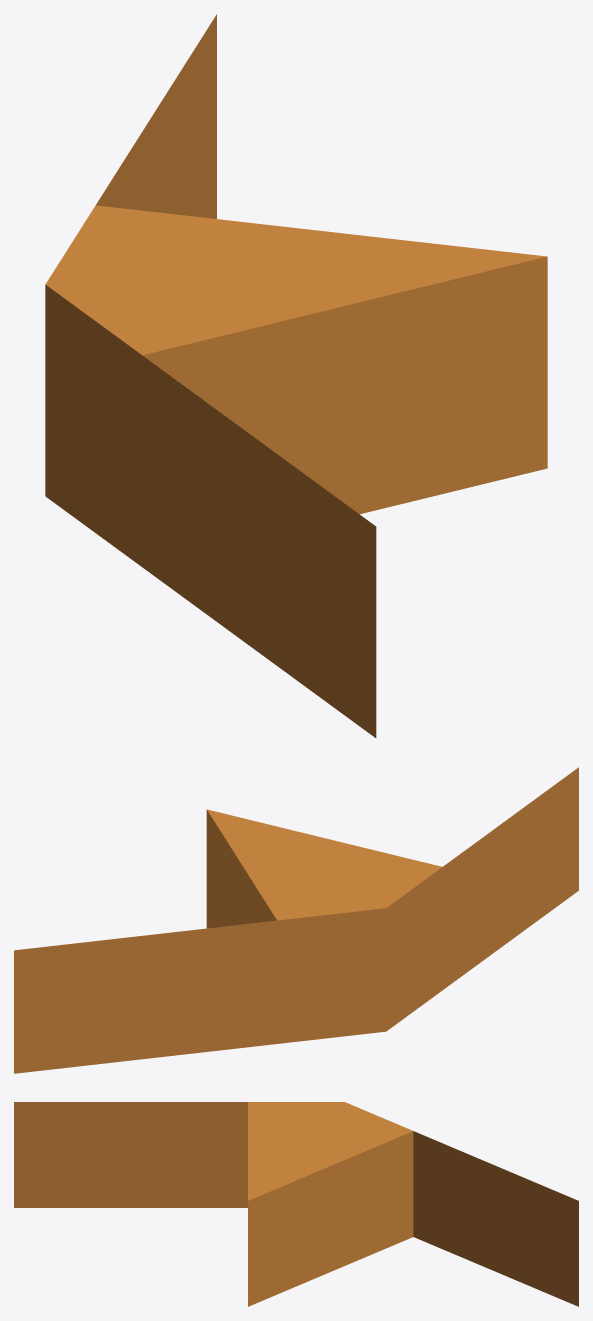
3 views of the same model, one above another, from view 1: azimuth 30°, elevation 25°; view 2: azimuth 150°, elevation 25°; view 3: azimuth 270°, elevation 25° (orthographic). The views are drawn at different scales.
Visible parts, largest first — view 1: CORNER-A-13-p3; view 2: CORNER-A-13-p3; view 3: CORNER-A-13-p3.
Part boxes in pixels (x1,y1,x2,y2): CORNER-A-13-p3: [45, 14, 547, 738]; CORNER-A-13-p3: [14, 767, 578, 1073]; CORNER-A-13-p3: [14, 1102, 578, 1306].
Size of the model in its own units: 0.09 by 0.045 by 0.2174.
